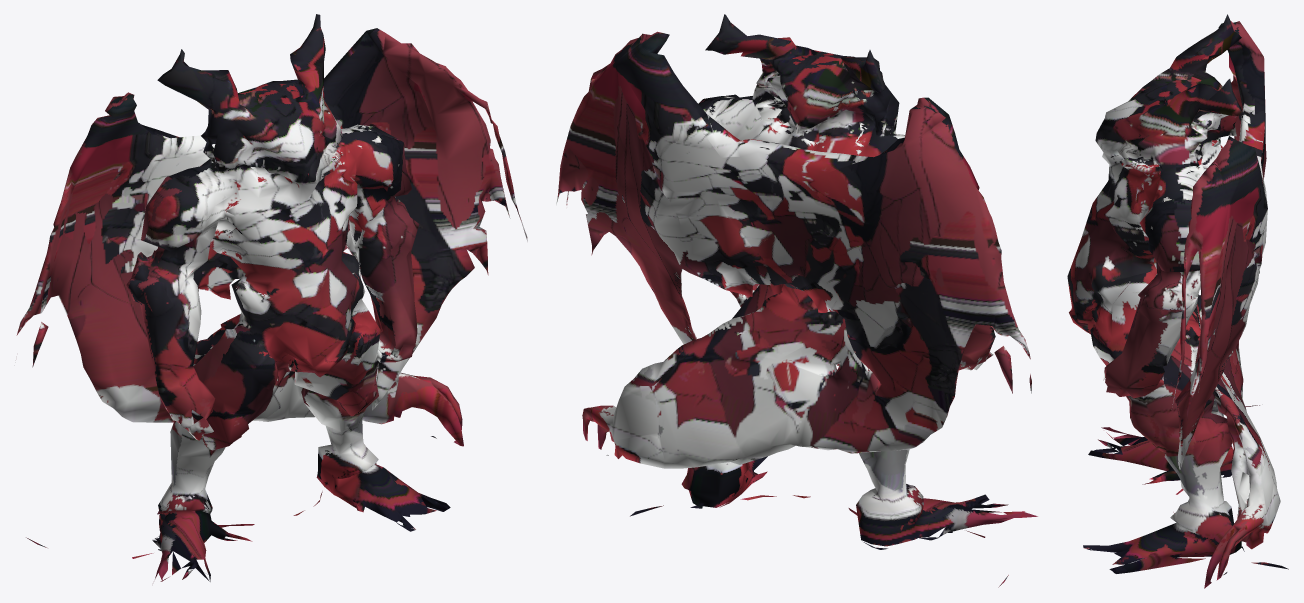
The model's file is envy_wraithwing.glb.
3 views of the same model, side by side, from view 1: azimuth 30°, elevation 25°; view 2: azimuth 150°, elevation 25°; view 3: azimuth 270°, elevation 25° (orthographic). The views are drawn at different scales.
Parts seen in each view (by area): view 1: LP_baked; view 2: LP_baked; view 3: LP_baked.
Part boxes in pixels (x1,y1,x2,y2): LP_baked: (16, 14, 527, 581); LP_baked: (556, 14, 1037, 587); LP_baked: (1067, 14, 1288, 588).
Bounding box in the file's own units: 1.95 × 1.86 × 0.8001.
1 material, 1 textured.
